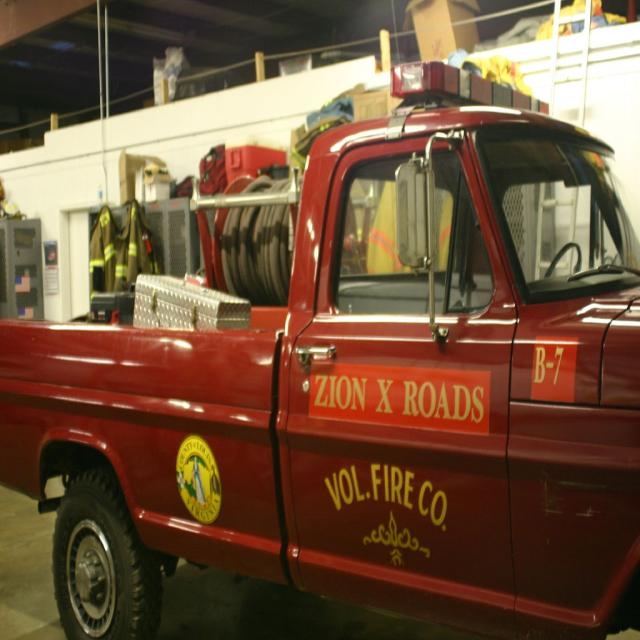no_fire: (11, 93, 640, 595)
